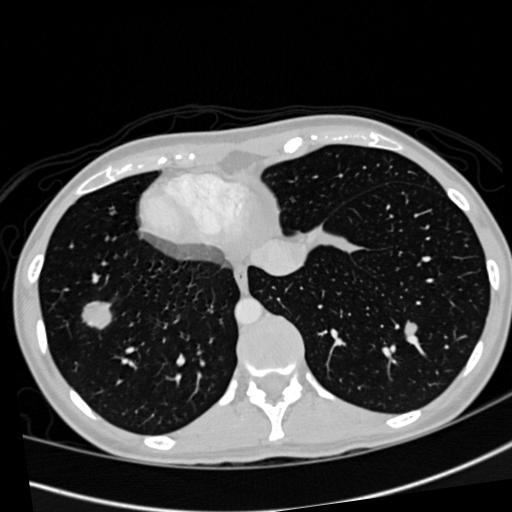nodule: (404, 319, 423, 338)
